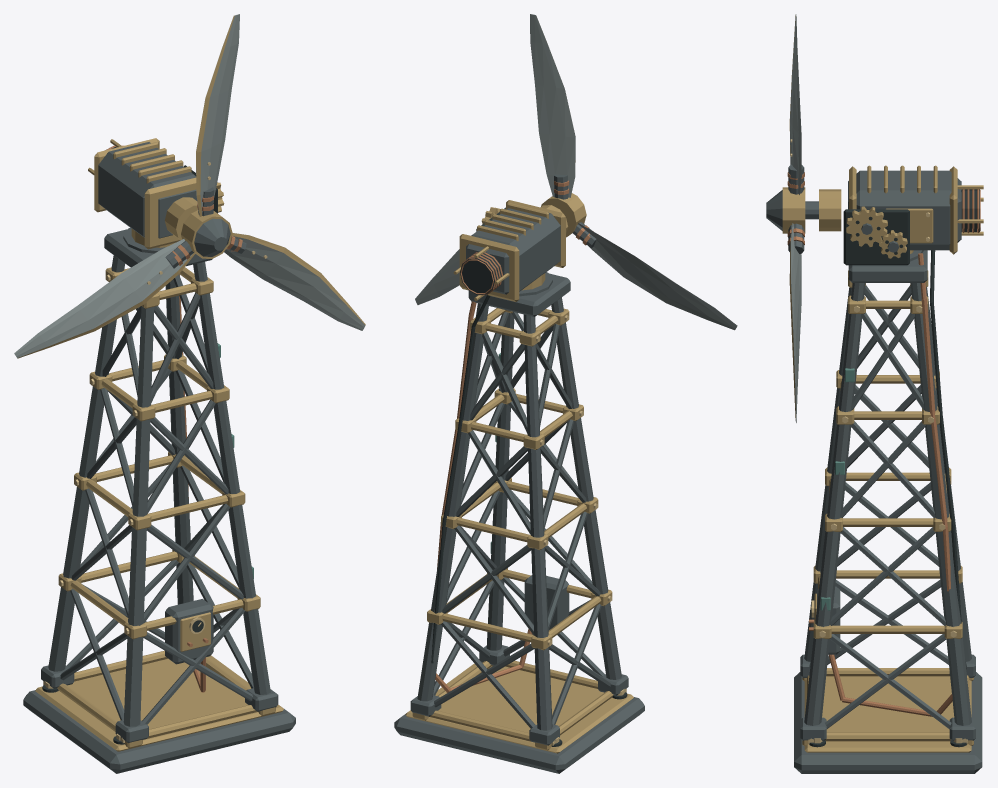
Rendered from steampunk_wind_turbine.glb.
3 views of the same model, side by side, from view 1: azimuth 30°, elevation 25°; view 2: azimuth 150°, elevation 25°; view 3: azimuth 270°, elevation 25° (orthographic). The views are drawn at different scales.
Visible parts, largest first — view 1: Tower_and_Generator_STATIC, Rotor_3_Blades_SPIN; view 2: Tower_and_Generator_STATIC, Rotor_3_Blades_SPIN; view 3: Tower_and_Generator_STATIC, Rotor_3_Blades_SPIN.
Part boxes in pixels (box(x1,y1,x2,y2)): Tower_and_Generator_STATIC: box(23, 138, 295, 773); Rotor_3_Blades_SPIN: box(14, 14, 365, 358); Tower_and_Generator_STATIC: box(394, 200, 644, 773); Rotor_3_Blades_SPIN: box(415, 14, 737, 330); Tower_and_Generator_STATIC: box(794, 165, 983, 773); Rotor_3_Blades_SPIN: box(766, 14, 805, 422).
Size of the model in its own units: 5.38 by 10.72 by 2.89.
